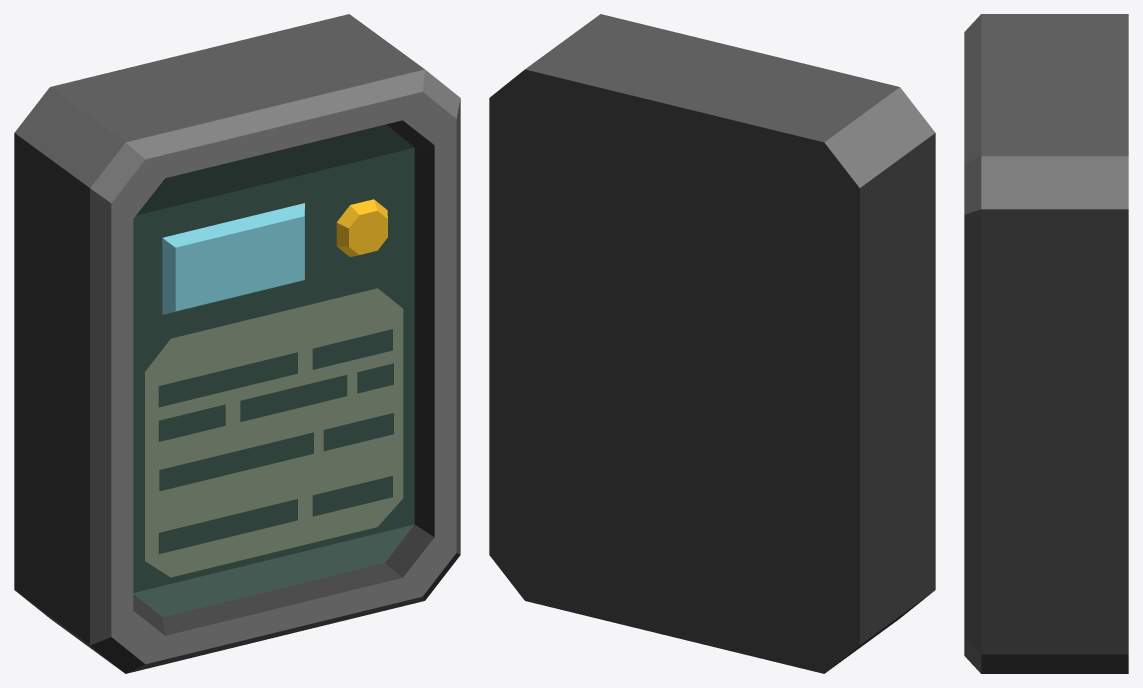
File: CR_WallPanel_Control_2.fbx
3 views of the same model, side by side, from view 1: azimuth 30°, elevation 25°; view 2: azimuth 150°, elevation 25°; view 3: azimuth 270°, elevation 25° (orthographic). The views are drawn at different scales.
Visible parts, largest first — view 1: CR_WallPanel_Control_2; view 2: CR_WallPanel_Control_2; view 3: CR_WallPanel_Control_2.
Part boxes in pixels (x1=…): CR_WallPanel_Control_2: x1=14, y1=14, x2=460, y2=673; CR_WallPanel_Control_2: x1=489, y1=14, x2=935, y2=673; CR_WallPanel_Control_2: x1=964, y1=14, x2=1128, y2=673.
Size of the model in its own units: 0.5 by 0.6856 by 0.1974.
